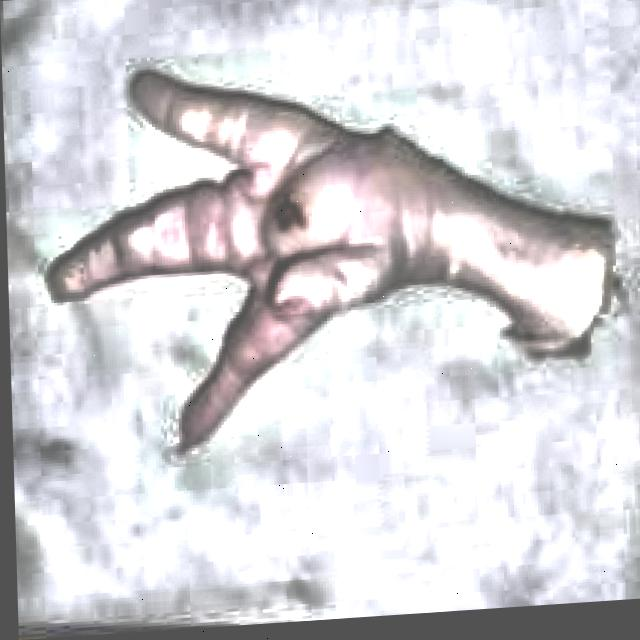Bumble foot: (248, 179, 321, 259)
